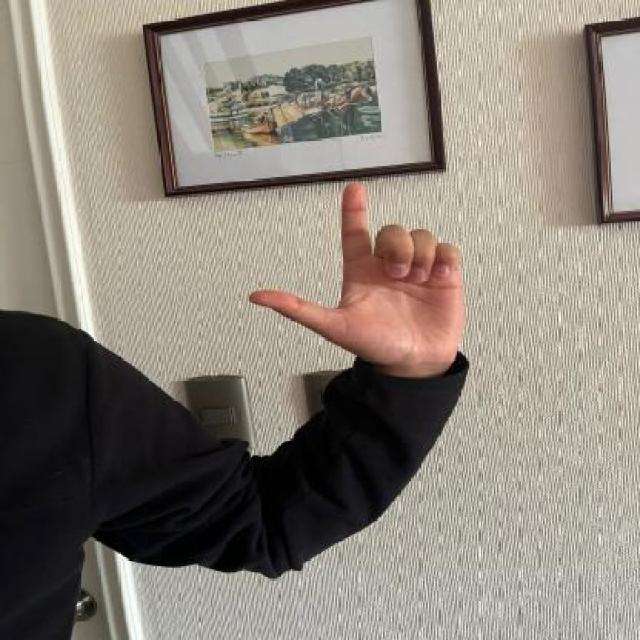L: (243, 177, 474, 368)
